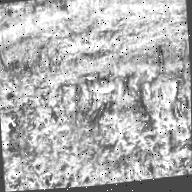boar: (77, 58, 138, 108)
